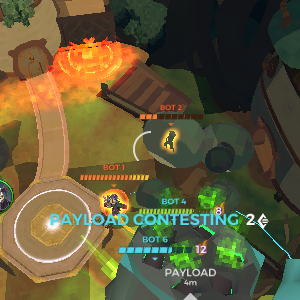model: (98, 191, 129, 215), (162, 127, 179, 155)
